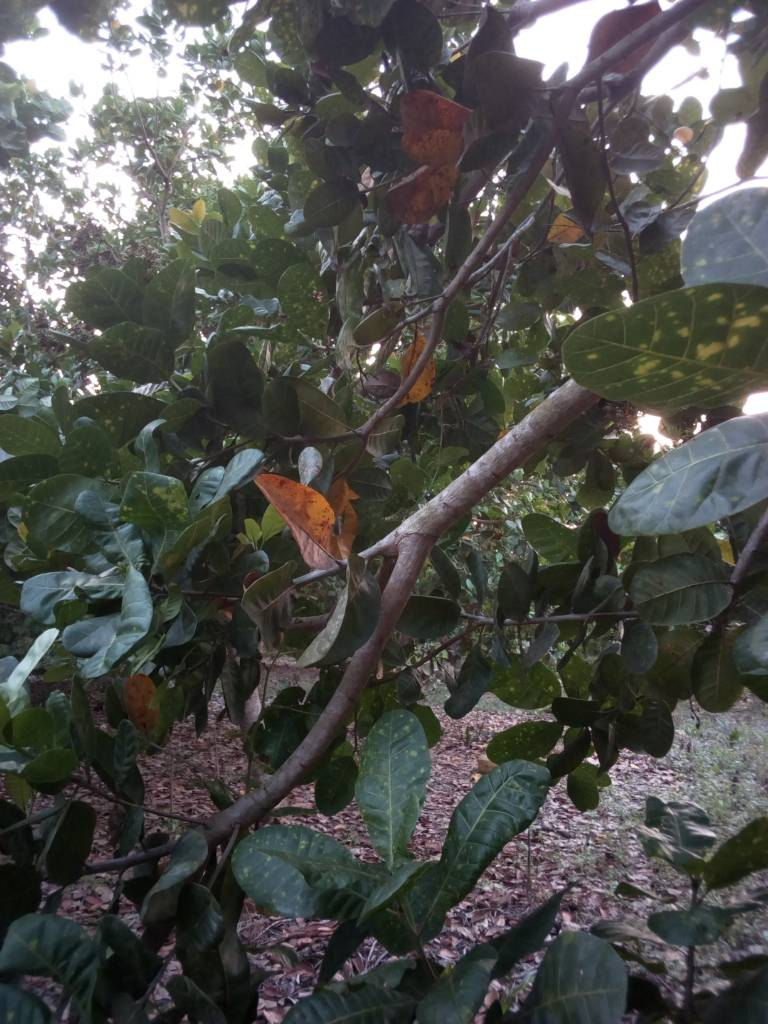Alternariose: (566, 285, 768, 405), (358, 711, 433, 872), (255, 467, 357, 567), (396, 89, 477, 160), (121, 472, 193, 536)
